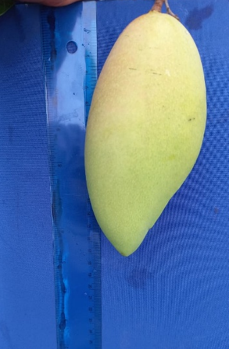Mango-sano: (85, 4, 206, 255)
